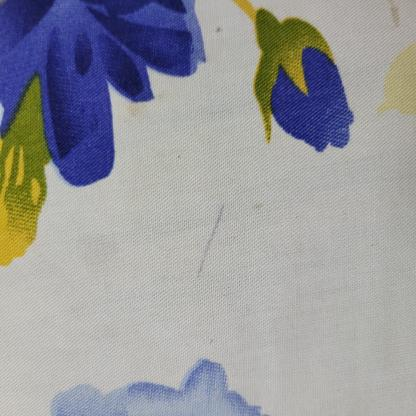spot: (192, 190, 233, 283), (124, 100, 143, 118), (252, 195, 270, 213), (155, 90, 167, 104), (176, 150, 183, 162), (216, 25, 224, 35)
